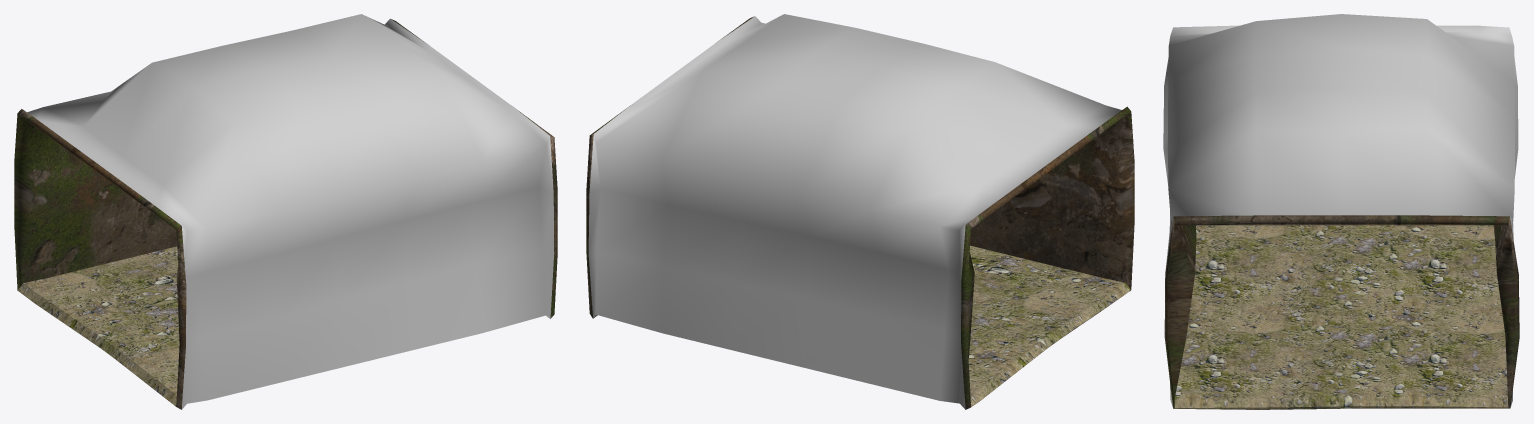
The model's file is passage_grotto_root.obj.
3 renders of one model, left to right at view 1: azimuth 30°, elevation 25°; view 2: azimuth 150°, elevation 25°; view 3: azimuth 270°, elevation 25°, orthographic. The views are drawn at different scales.
Visible parts, largest first — view 1: Passage_grotto_root; view 2: Passage_grotto_root; view 3: Passage_grotto_root.
Boxes of the visible parts, left/top/right/bottom form: Passage_grotto_root: left=14, top=14, right=557, bottom=409; Passage_grotto_root: left=586, top=14, right=1134, bottom=409; Passage_grotto_root: left=1163, top=14, right=1519, bottom=409.
Size of the model in its own units: 528 by 324 by 410.
